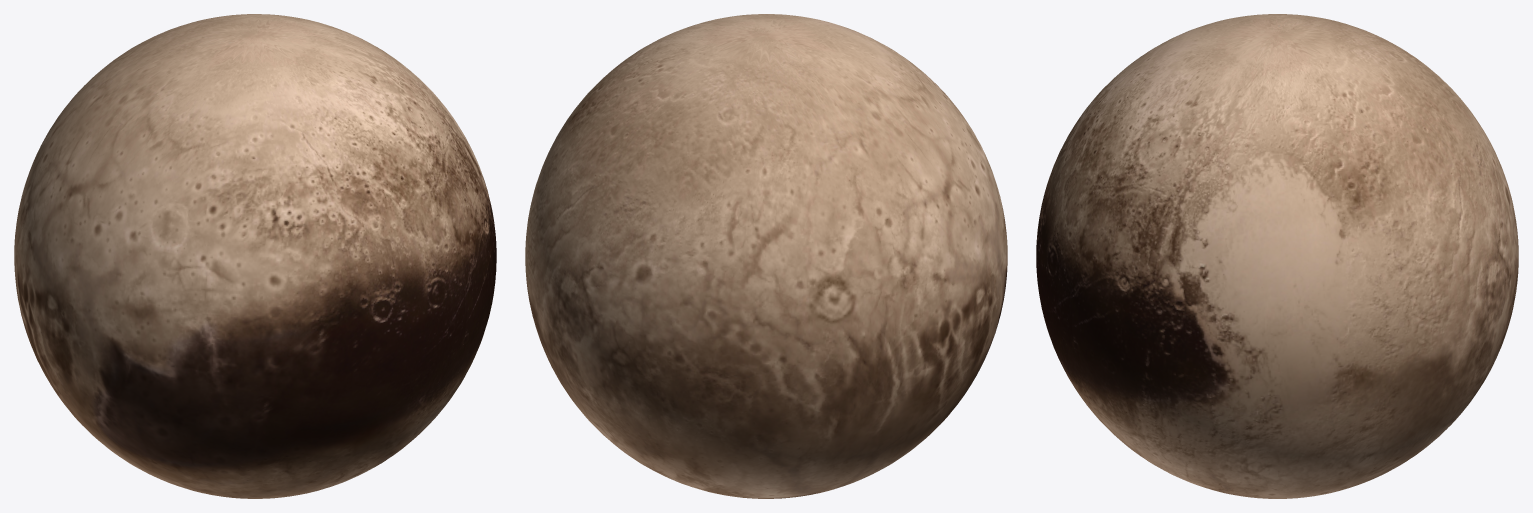
3 renders of one model, left to right at view 1: azimuth 30°, elevation 25°; view 2: azimuth 150°, elevation 25°; view 3: azimuth 270°, elevation 25°, orthographic.
Visible parts, largest first — view 1: Sphere_2; view 2: Sphere_2; view 3: Sphere_2.
Part boxes in pixels (bbox=[...]): Sphere_2: bbox=[14, 14, 496, 498]; Sphere_2: bbox=[525, 14, 1007, 498]; Sphere_2: bbox=[1036, 14, 1518, 498].
Bounding box in the file's own units: 2.23 × 2.25 × 2.23.
1 material, 1 textured.
